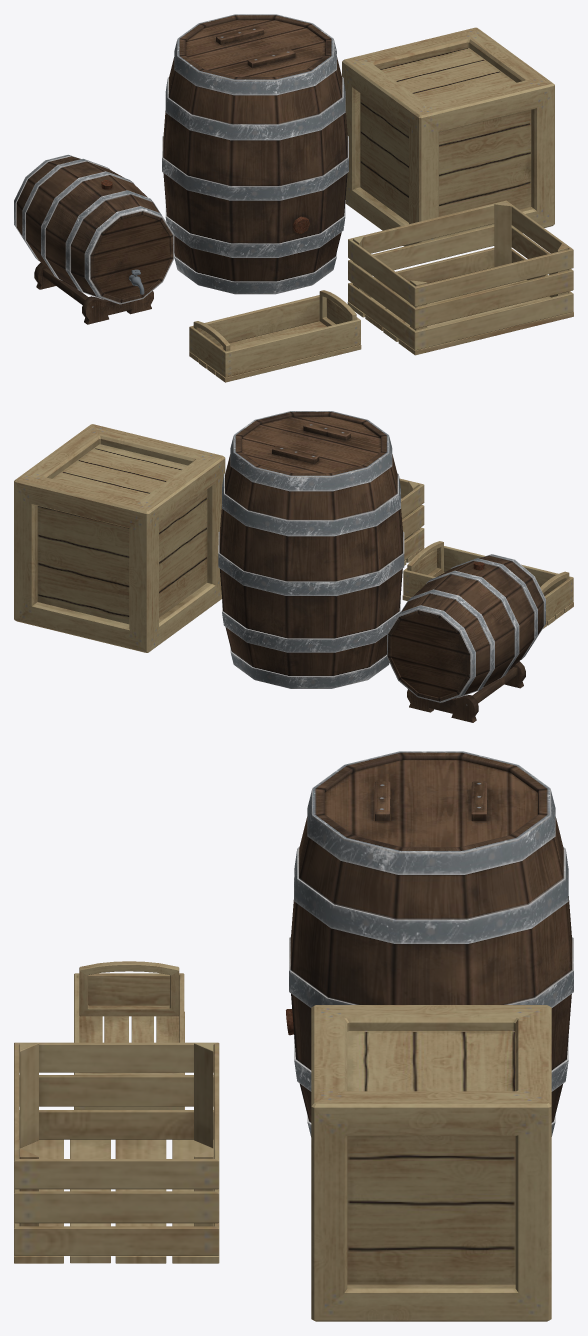
Rendered from crates_barrel.FBX.
3 views of the same model, one above another, from view 1: azimuth 30°, elevation 25°; view 2: azimuth 150°, elevation 25°; view 3: azimuth 270°, elevation 25° (orthographic). The views are drawn at different scales.
Parts seen in each view (by area): view 1: wooden_barrel, wooden_crate, wooden_box_big, wooden_keg, wooden_box_big001; view 2: wooden_barrel, wooden_crate, wooden_keg, wooden_box_big001, wooden_box_big; view 3: wooden_crate, wooden_barrel, wooden_box_big, wooden_box_big001.
Boxes of the visible parts, box(x1,y1,x2,y2) form: wooden_barrel: box(162, 14, 348, 294); wooden_crate: box(342, 27, 554, 246); wooden_box_big: box(347, 200, 573, 355); wooden_keg: box(14, 154, 174, 324); wooden_box_big001: box(189, 290, 361, 382); wooden_barrel: box(218, 411, 404, 688); wooden_crate: box(14, 424, 225, 652); wooden_keg: box(387, 554, 545, 722); wooden_box_big001: box(402, 541, 573, 628); wooden_box_big: box(399, 478, 424, 565); wooden_crate: box(311, 1005, 551, 1321); wooden_barrel: box(286, 751, 573, 1136); wooden_box_big: box(14, 1042, 219, 1263); wooden_box_big001: box(74, 961, 184, 1109).
Size of the model in its own units: 2.08 by 0.9135 by 1.4.
Materials: 1 (1 with a texture image).
